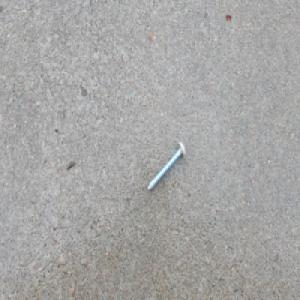Nail: (146, 139, 186, 193)
